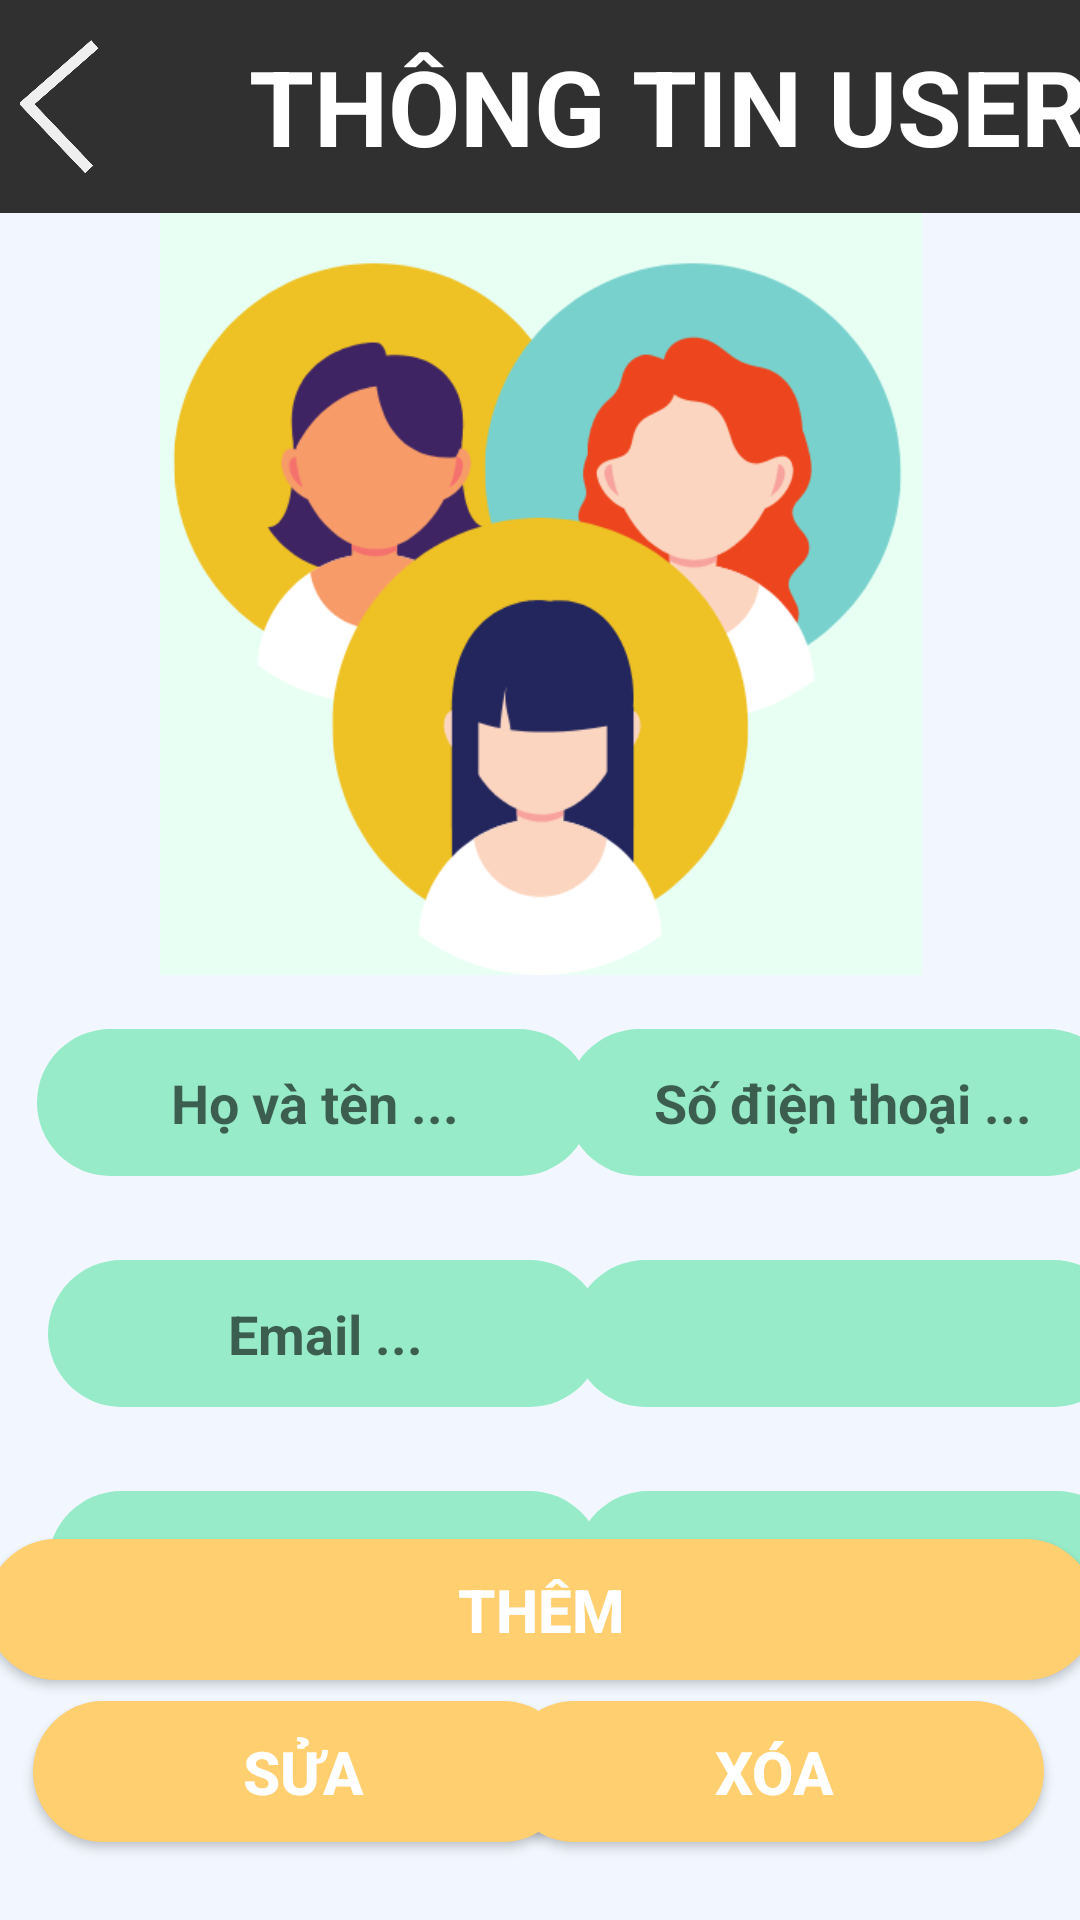

Named icons in this screenshot (1080x1920) and their bounding boxes, (x1, y1, x2, y2):
turnback: (20, 40, 98, 173)
